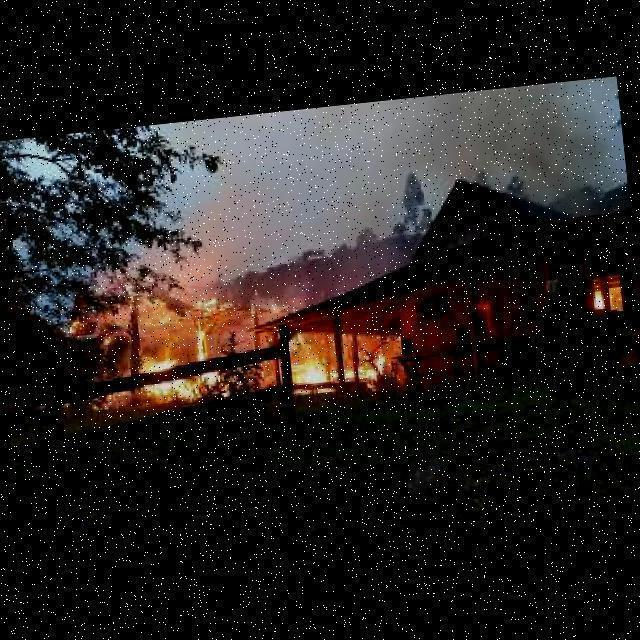Fire: (289, 348, 386, 396), (147, 366, 231, 402), (194, 322, 222, 358), (192, 293, 232, 311), (142, 353, 182, 371), (593, 289, 617, 311), (285, 328, 307, 350), (270, 297, 290, 311), (64, 319, 85, 331)
Smoke: (446, 75, 624, 228)
